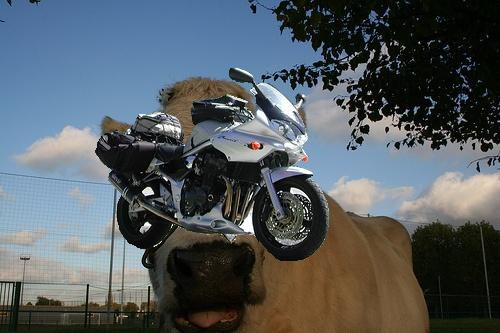tampered: (96, 69, 329, 261)
